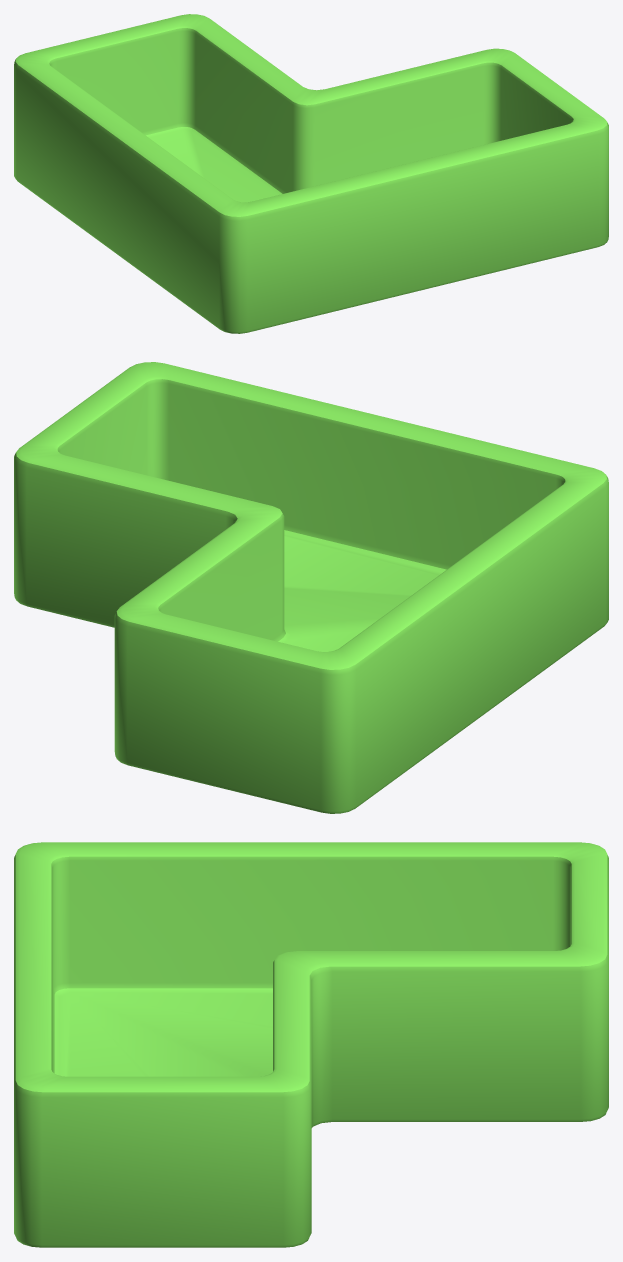
3 renders of one model, top to bottom at view 1: azimuth 30°, elevation 25°; view 2: azimuth 150°, elevation 25°; view 3: azimuth 270°, elevation 25°, orthographic. The views are drawn at different scales.
Parts seen in each view (by area): view 1: Shape_L3; view 2: Shape_L3; view 3: Shape_L3.
Boxes of the visible parts, x1,y1,x2,y2 form: Shape_L3: (14, 14, 608, 333); Shape_L3: (14, 362, 608, 813); Shape_L3: (14, 842, 608, 1247).
Size of the model in its own units: 1.7 by 0.5 by 1.7.
